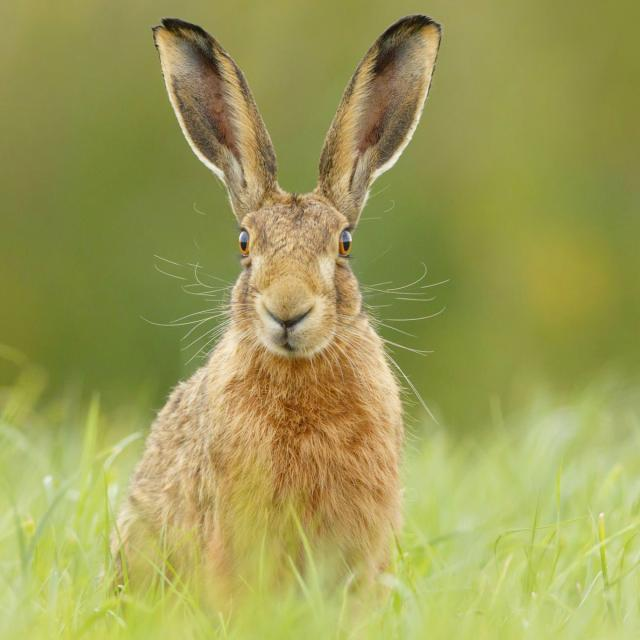hare: (111, 15, 442, 603)
